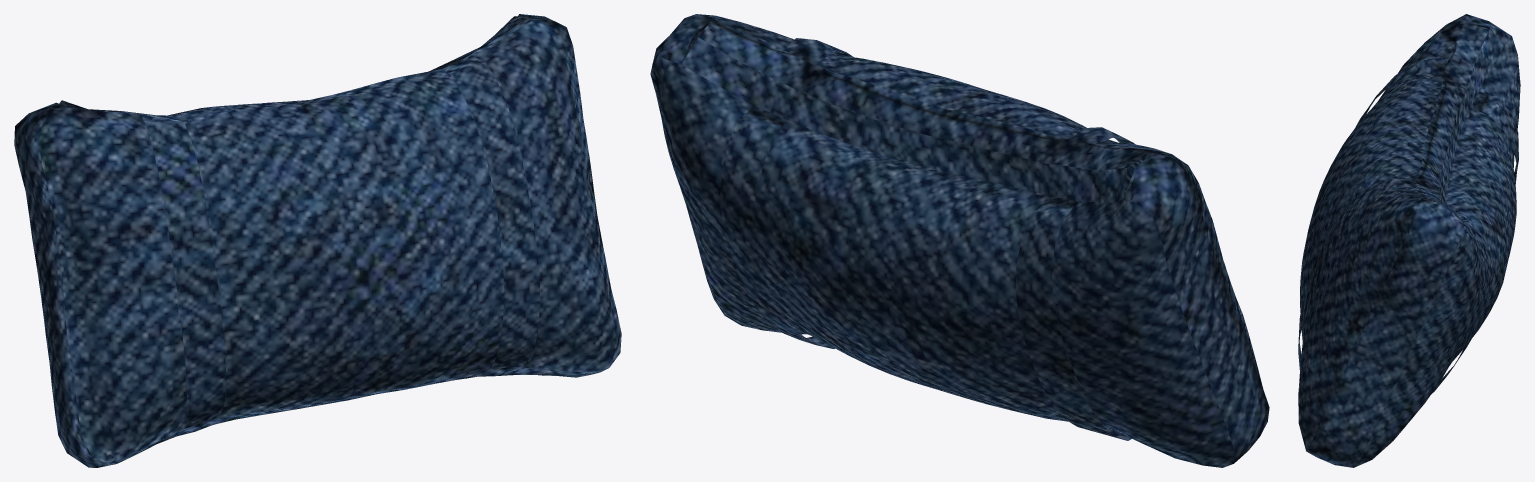
Rendered from bolsoSimple.obj.
3 views of the same model, side by side, from view 1: azimuth 30°, elevation 25°; view 2: azimuth 150°, elevation 25°; view 3: azimuth 270°, elevation 25° (orthographic). The views are drawn at different scales.
Parts seen in each view (by area): view 1: Pattern2D_7223, Pattern2D_17217, Pattern2D_17218, Pattern2D_14888, Pattern2D_15963; view 2: Pattern2D_7224, Pattern2D_14888, Pattern2D_15964, Pattern2D_15963, Pattern2D_7223, Pattern2D_17219, Pattern2D_17220, Pattern2D_17218, Pattern2D_17217; view 3: Pattern2D_7223, Pattern2D_7224, Pattern2D_14888, Pattern2D_15963, Pattern2D_17218, Pattern2D_15964, Pattern2D_17219, Pattern2D_17217, Pattern2D_17220.
Boxes of the visible parts, <box> form: Pattern2D_7223: <box>38,19,621,460</box>; Pattern2D_17217: <box>140,114,225,428</box>; Pattern2D_17218: <box>442,55,539,368</box>; Pattern2D_14888: <box>14,14,608,467</box>; Pattern2D_15963: <box>62,16,530,115</box>; Pattern2D_7224: <box>650,58,1234,467</box>; Pattern2D_14888: <box>652,14,1269,463</box>; Pattern2D_15964: <box>681,37,1127,202</box>; Pattern2D_15963: <box>698,19,1150,170</box>; Pattern2D_7223: <box>689,14,1262,387</box>; Pattern2D_17219: <box>1015,196,1131,440</box>; Pattern2D_17220: <box>720,106,834,348</box>; Pattern2D_17218: <box>784,38,853,64</box>; Pattern2D_17217: <box>1069,127,1135,144</box>; Pattern2D_7223: <box>1298,14,1466,450</box>; Pattern2D_7224: <box>1354,36,1520,467</box>; Pattern2D_14888: <box>1306,14,1511,467</box>; Pattern2D_15963: <box>1416,22,1489,203</box>; Pattern2D_17218: <box>1298,176,1416,369</box>; Pattern2D_15964: <box>1439,29,1503,221</box>; Pattern2D_17219: <box>1471,91,1518,183</box>; Pattern2D_17217: <box>1355,56,1448,127</box>; Pattern2D_17220: <box>1431,219,1492,394</box>.
Size of the model in its own units: 0.3997 by 0.2298 by 0.1747.
